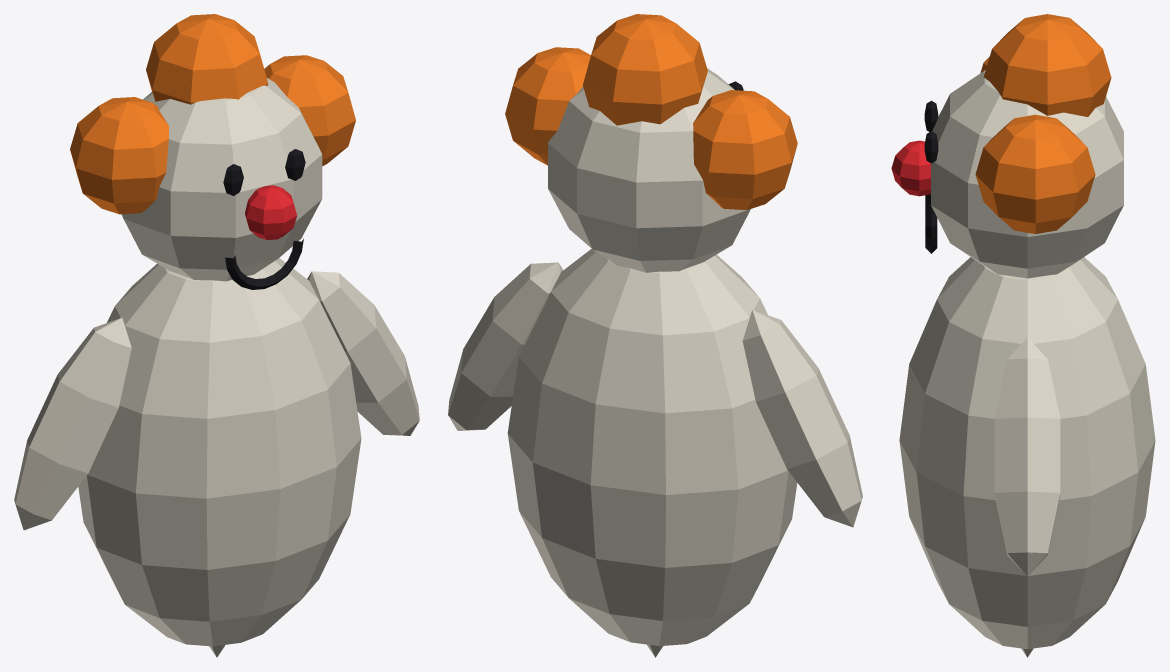
Rendered from inflatable_clown.glb.
The picture shows the model from 3 angles, left to right: view 1: azimuth 30°, elevation 25°; view 2: azimuth 150°, elevation 25°; view 3: azimuth 270°, elevation 25°; orthographic projection. The views are drawn at different scales.
Parts seen in each view (by area): view 1: body_balloon_white, wig_wig_orange, face_clown_red, face_black; view 2: body_balloon_white, wig_wig_orange; view 3: body_balloon_white, wig_wig_orange, face_clown_red, face_black.
Part boxes in pixels (<box>): body_balloon_white: <box>14,78,419,657</box>; wig_wig_orange: <box>70,14,355,214</box>; face_clown_red: <box>245,185,296,239</box>; face_black: <box>223,149,305,289</box>; body_balloon_white: <box>448,68,862,657</box>; wig_wig_orange: <box>505,14,797,209</box>; body_balloon_white: <box>899,70,1155,657</box>; wig_wig_orange: <box>975,14,1111,234</box>; face_clown_red: <box>891,140,930,196</box>; face_black: <box>924,100,938,253</box>.
Bounding box in the file's own units: 1.18 × 1.76 × 0.66.
